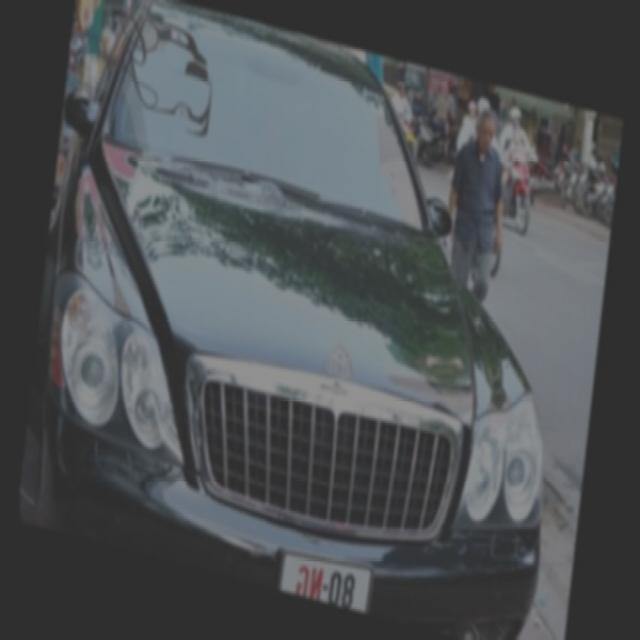bien_ngoai_giao: (276, 550, 370, 618)
